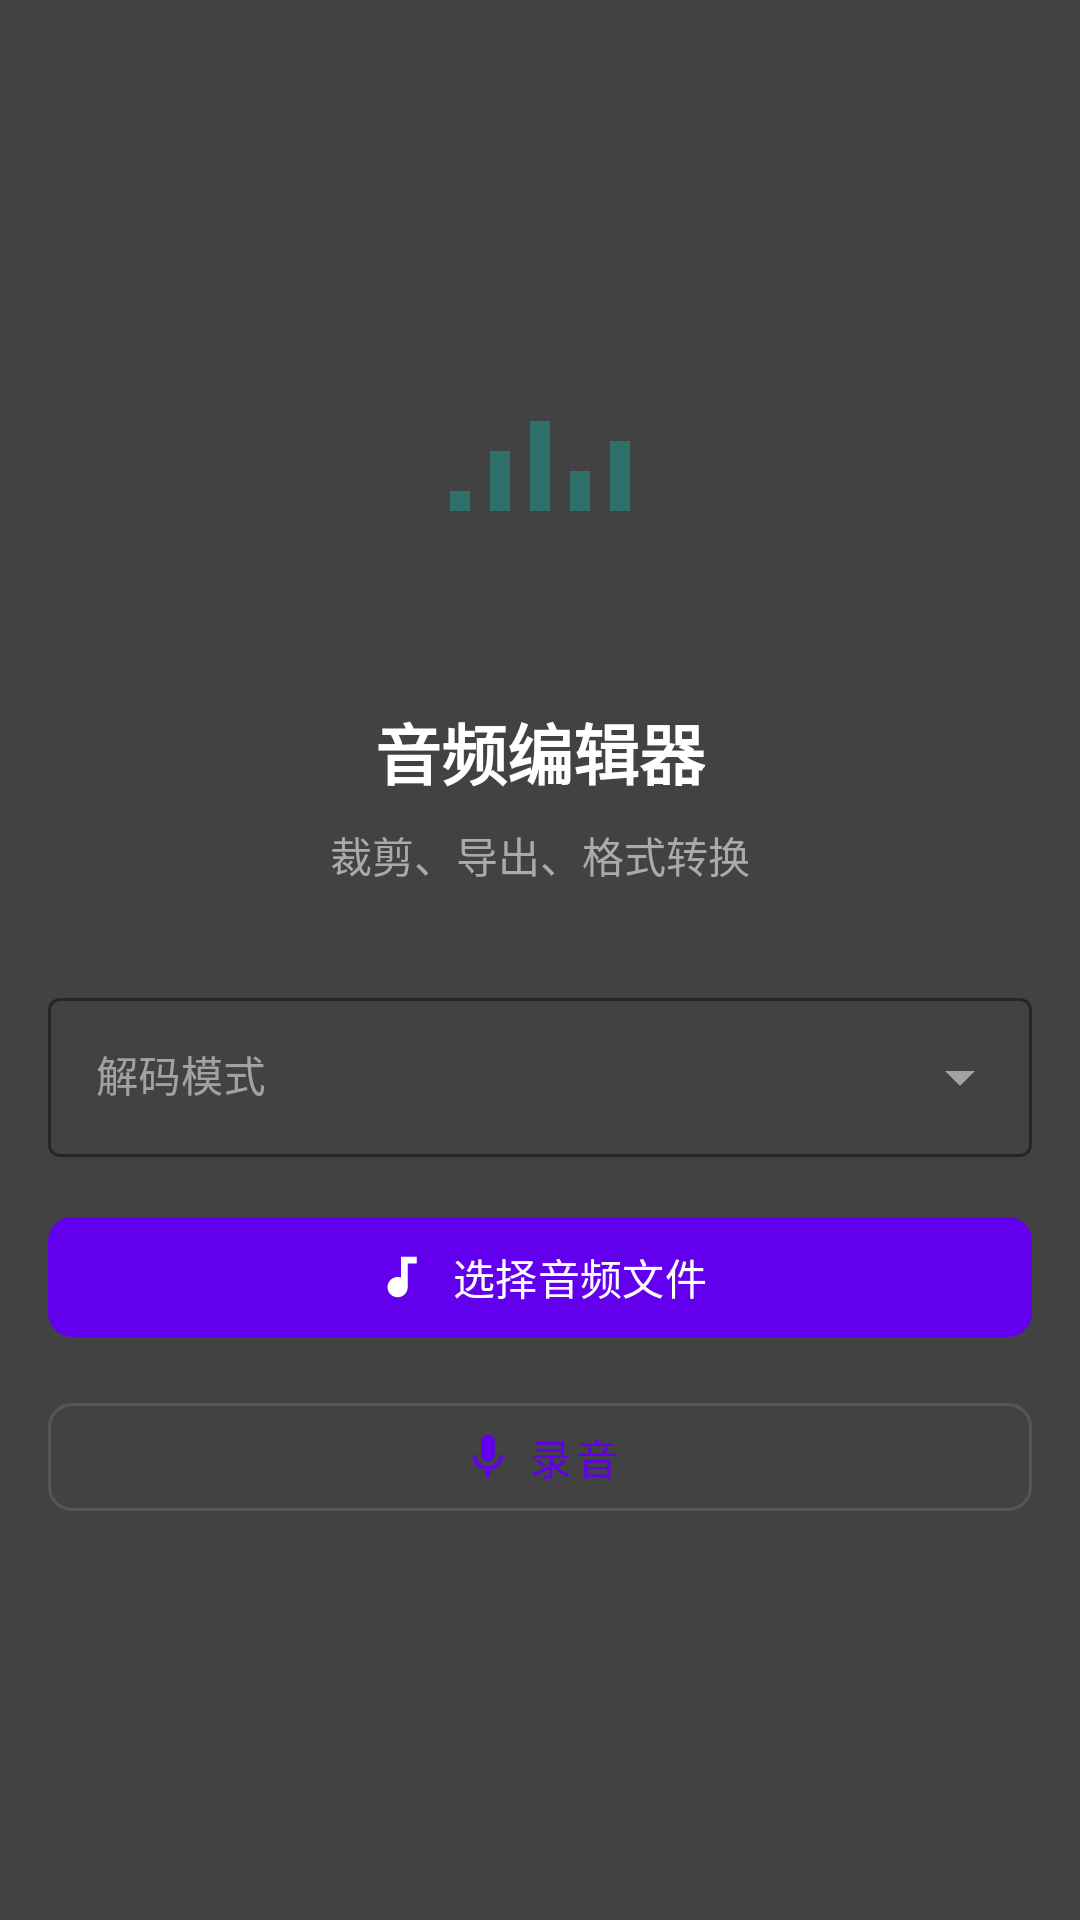

Icon click points for this 1080×1920 phone screenshot, format [x,y]:
audio wave: [540,466]
